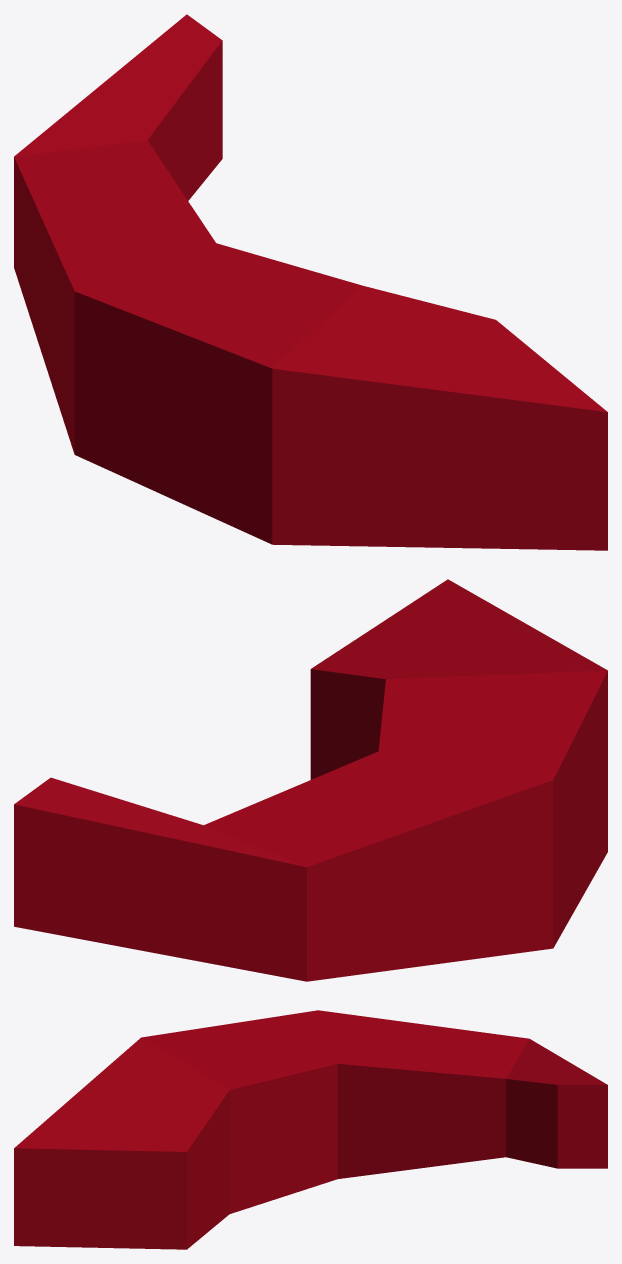
The model's file is CapsicumFlakeRedBaked.fbx.
The picture shows the model from 3 angles, top to bottom: view 1: azimuth 30°, elevation 25°; view 2: azimuth 150°, elevation 25°; view 3: azimuth 270°, elevation 25°; orthographic projection. The views are drawn at different scales.
Visible parts, largest first — view 1: CapsicumFlakeRedBaked; view 2: CapsicumFlakeRedBaked; view 3: CapsicumFlakeRedBaked.
Boxes of the visible parts, x1,y1,x2,y2 form: CapsicumFlakeRedBaked: (14, 14, 607, 550); CapsicumFlakeRedBaked: (14, 579, 607, 981); CapsicumFlakeRedBaked: (14, 1010, 607, 1249).
Size of the model in its own units: 2.81 by 1.87 by 6.23.
